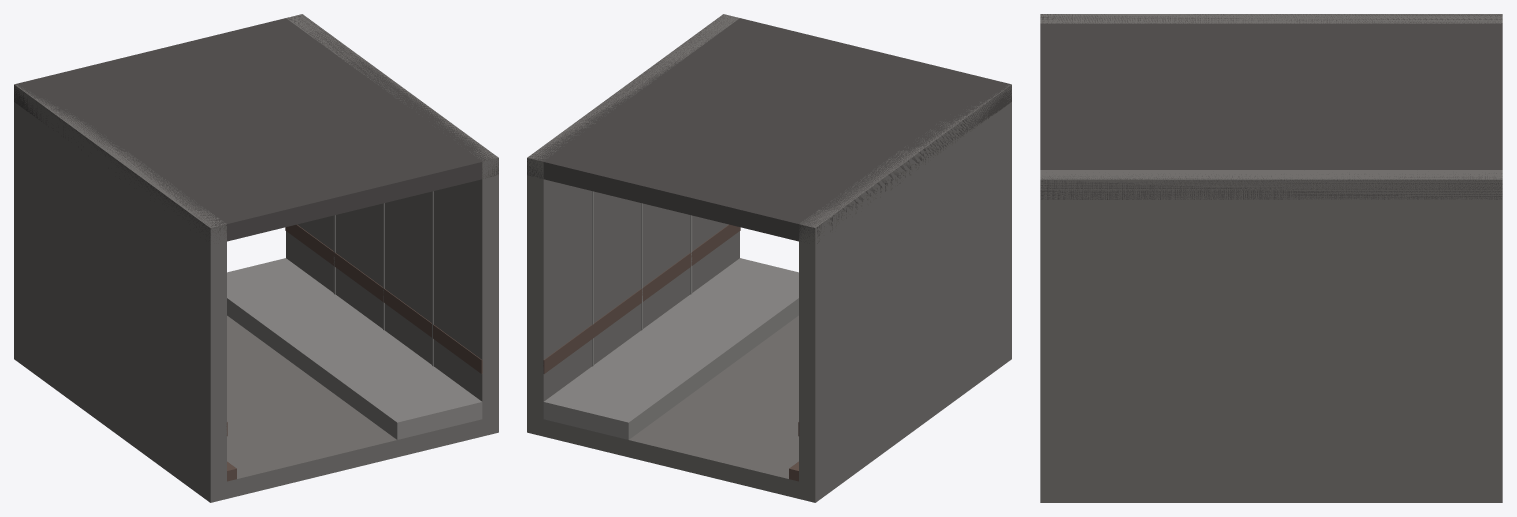
File: B_culvert.glb
The picture shows the model from 3 angles, left to right: view 1: azimuth 30°, elevation 25°; view 2: azimuth 150°, elevation 25°; view 3: azimuth 270°, elevation 25°; orthographic projection. The views are drawn at different scales.
Parts seen in each view (by area): view 1: hexa.003, hexa.007, hexa.005, hexa, hexa.002, hexa.006; view 2: hexa.007, hexa.003, hexa.005, hexa, hexa.002, hexa.006; view 3: hexa.005, hexa.007, hexa, hexa.003.
Part boxes in pixels (x1,y1,x2,y2): hexa.003: (14, 84, 226, 502); hexa.007: (14, 14, 498, 241); hexa.005: (286, 14, 498, 436); hexa: (14, 315, 498, 502); hexa.002: (227, 258, 482, 439); hexa.006: (285, 224, 482, 373); hexa.007: (527, 14, 1011, 243); hexa.003: (799, 84, 1011, 502); hexa.005: (527, 14, 739, 436); hexa: (527, 315, 1011, 502); hexa.002: (543, 258, 798, 439); hexa.006: (543, 224, 740, 373); hexa.005: (1040, 170, 1502, 502); hexa.007: (1040, 14, 1502, 199); hexa: (1040, 482, 1502, 502); hexa.003: (1040, 14, 1502, 23).
Size of the model in its own units: 8.68 by 7.9 by 10.24.
